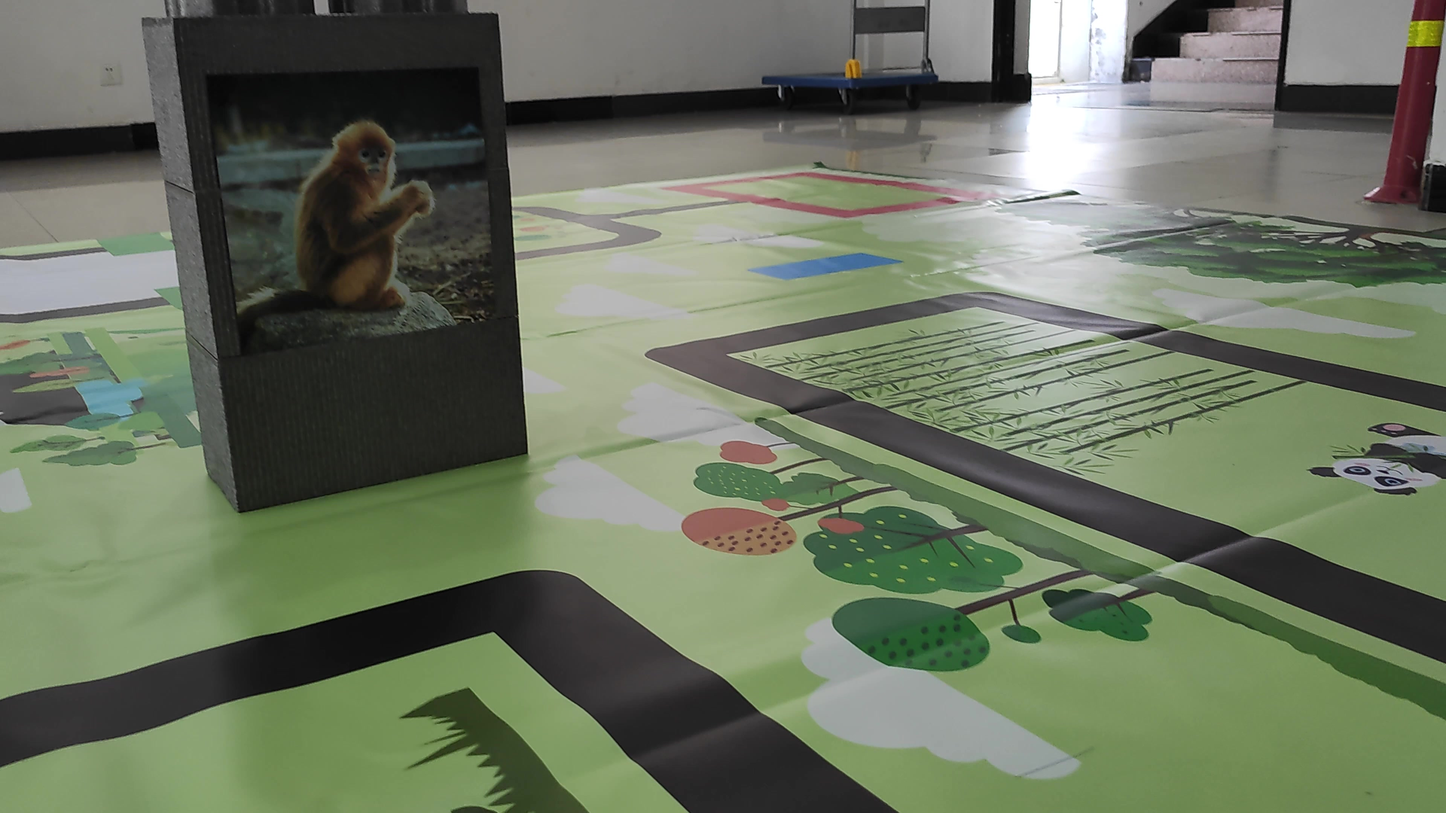monkey: (243, 110, 457, 342)
